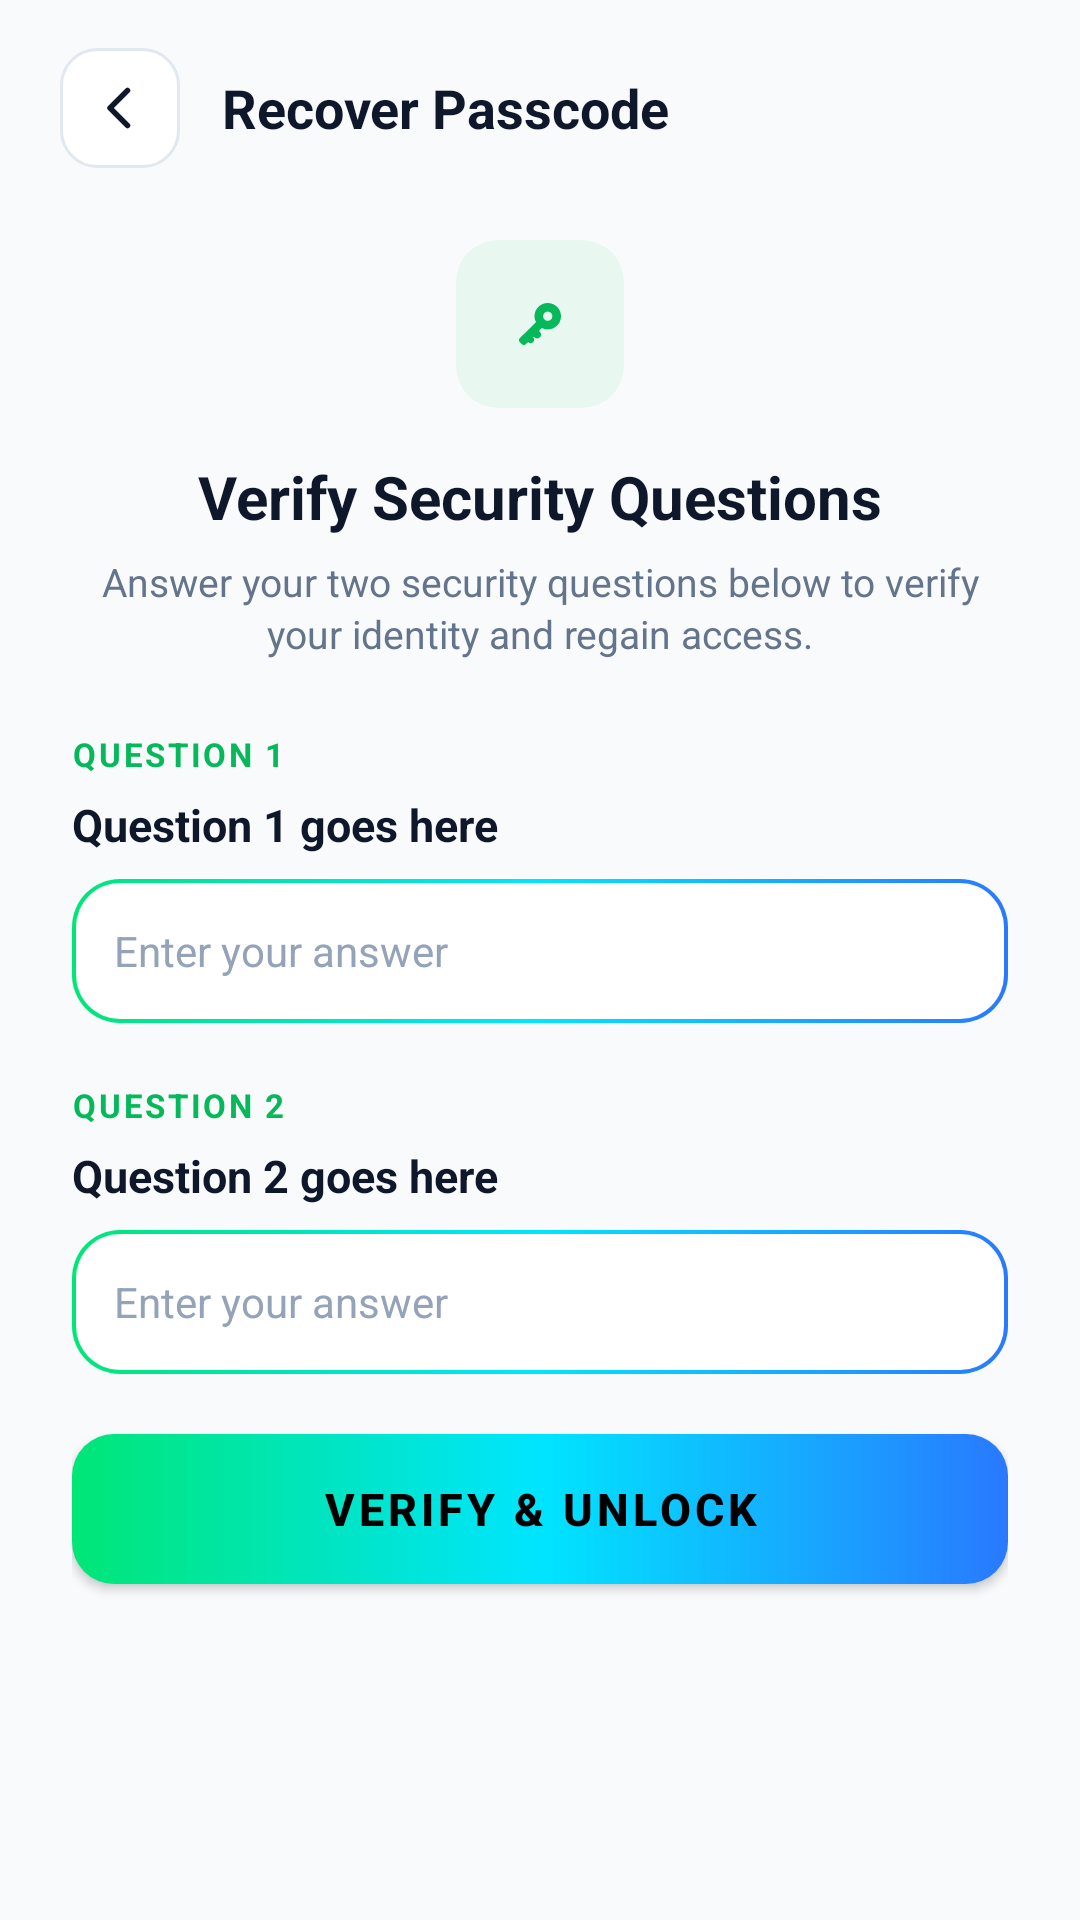

Screen size 1080w x 1920h. Icon name, then its box in pixels as BBox(x1, y1, x2, y2):
Back: BBox(107, 87, 131, 129)
Recovery: BBox(519, 303, 561, 345)
